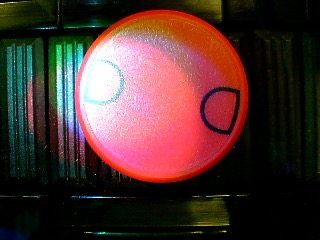MIPO2: (75, 10, 249, 183)
